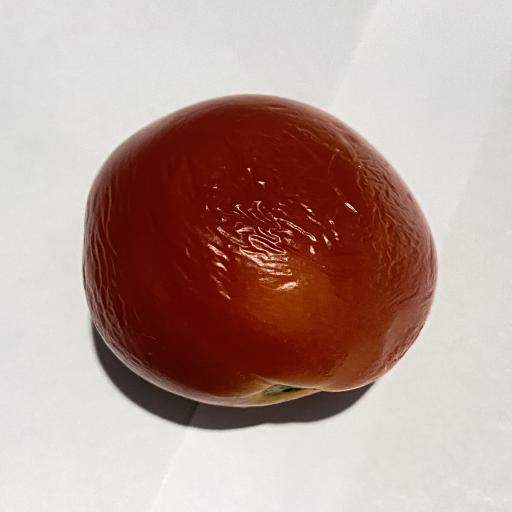spoiled: (83, 95, 436, 407), (83, 95, 436, 406)
